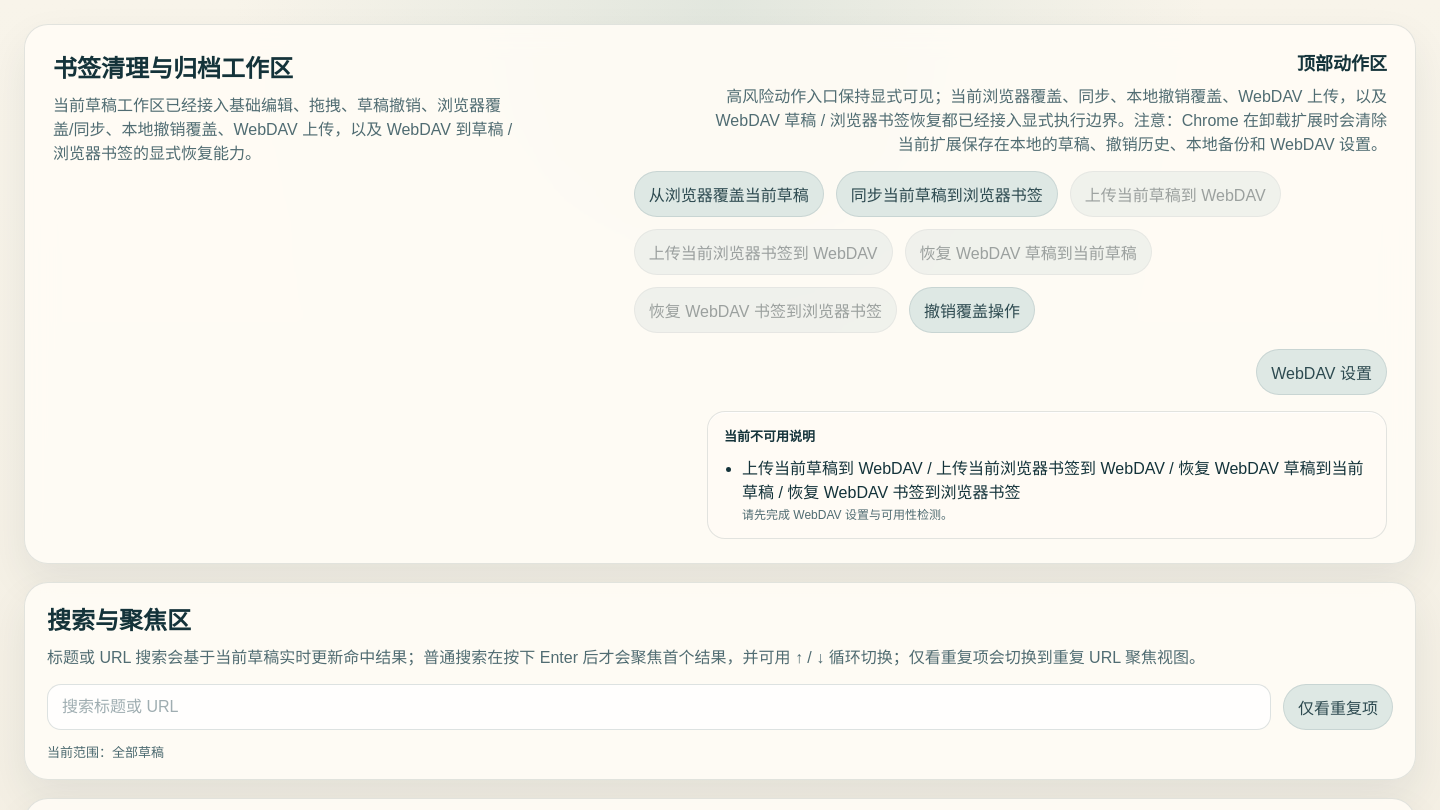
Scenario: T09B local backup and undo-overwrite gate › shows an explicit selection effect when both recovery targets are available before continuing
Click the button "撤销覆盖操作" at (972, 310), box [909,287,1035,333]
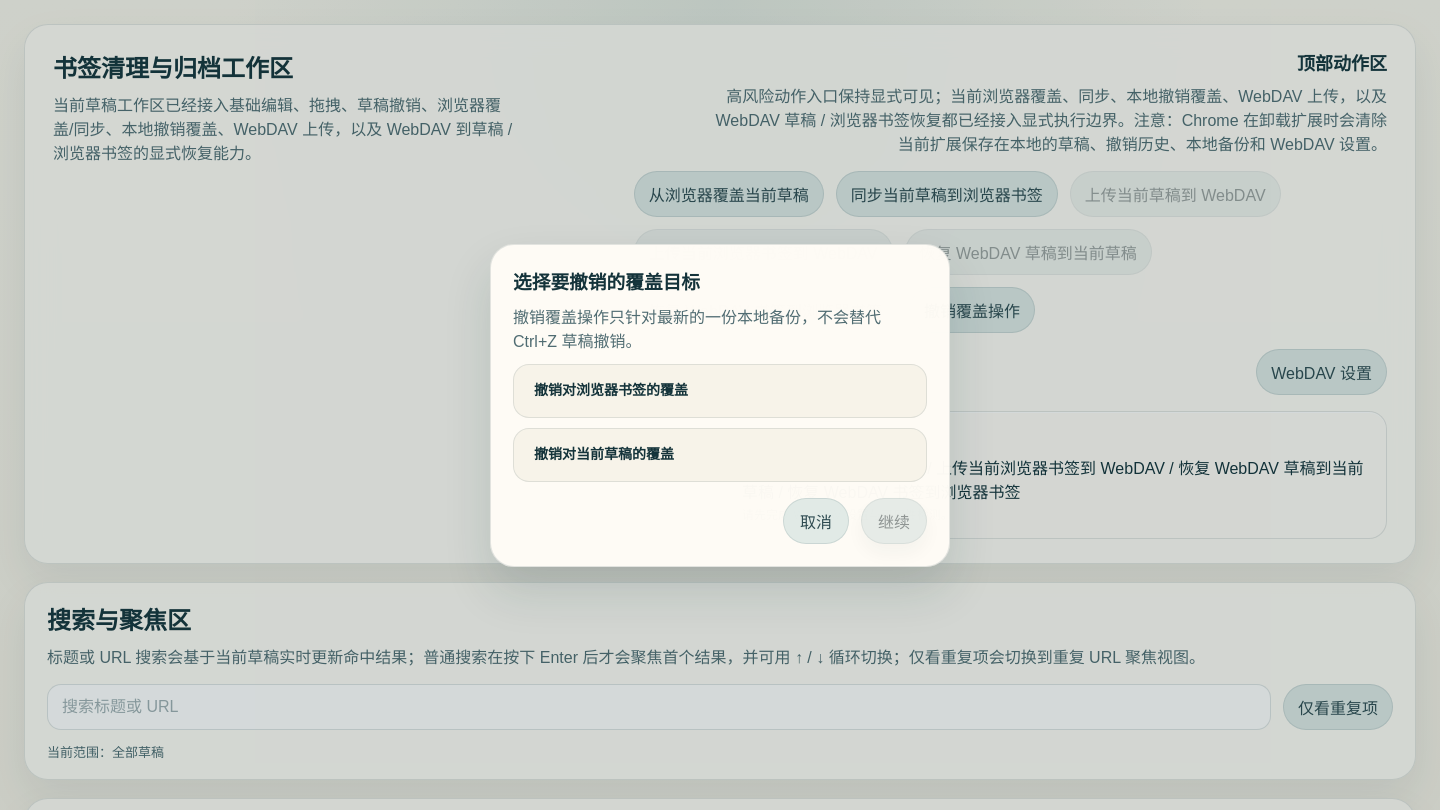
Now the button "继续" is disabled, box [861,498,927,544]
Click the button "撤销对当前草稿的覆盖" at (604, 454), box [513,428,927,482]
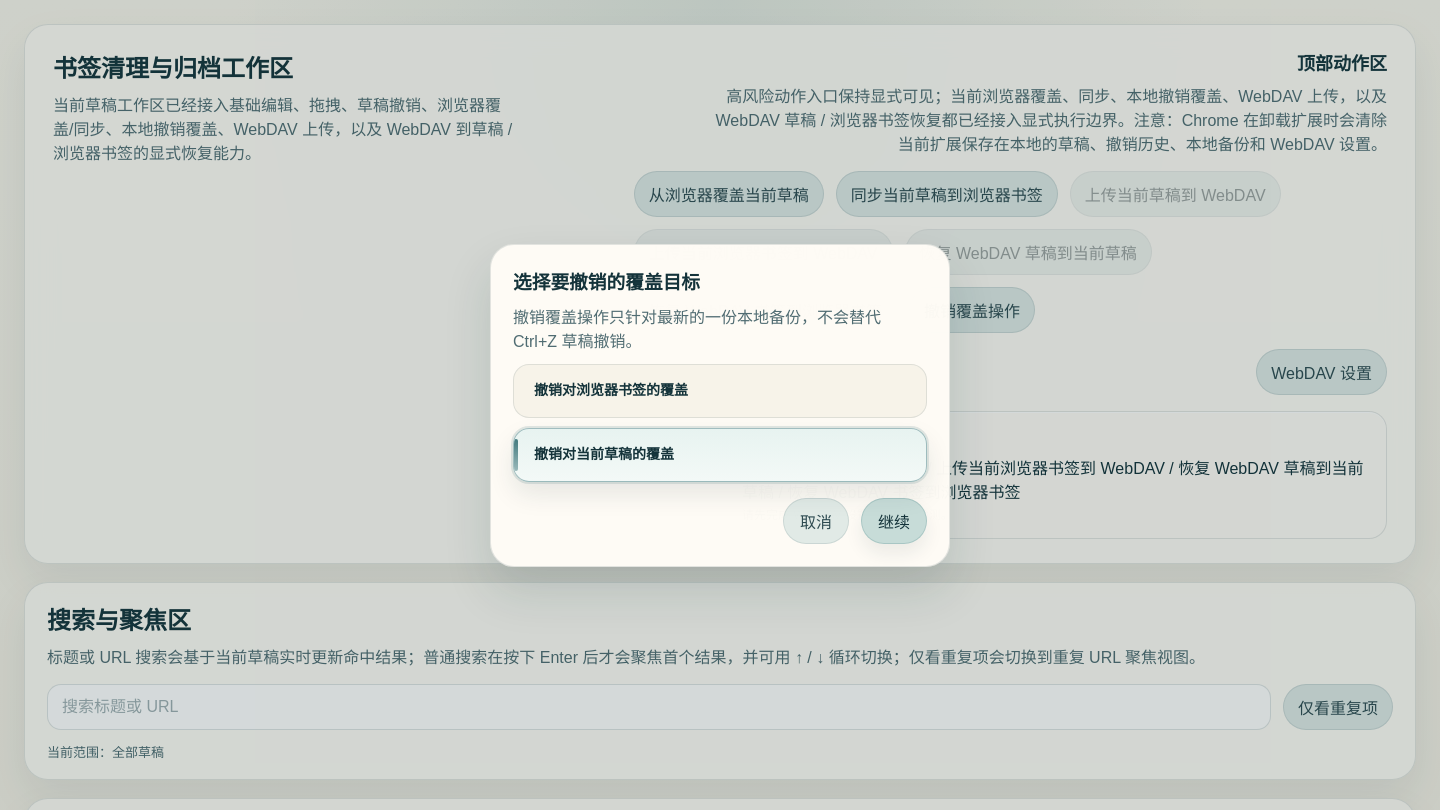
Now the button "继续" is enabled, box [861,498,927,544]
